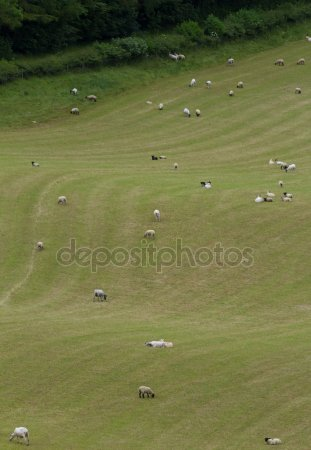sheep: (8, 426, 30, 445), (136, 385, 156, 400), (91, 289, 107, 304), (265, 436, 280, 445), (143, 229, 155, 240), (153, 209, 162, 222), (85, 95, 98, 103), (57, 195, 67, 205), (36, 240, 45, 250), (286, 163, 296, 172), (275, 158, 285, 166), (282, 191, 293, 198), (274, 59, 285, 66), (280, 196, 292, 202), (71, 107, 80, 115), (184, 107, 191, 117), (189, 77, 196, 87), (236, 81, 244, 88), (297, 57, 305, 64), (205, 80, 212, 88), (266, 190, 275, 196), (278, 180, 284, 188), (195, 109, 201, 117), (158, 103, 164, 110), (294, 87, 301, 93), (228, 90, 234, 96), (151, 155, 158, 160), (174, 162, 178, 168)
